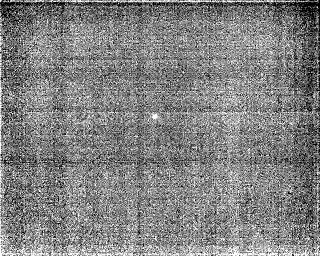BIRD: (150, 111, 161, 123)
